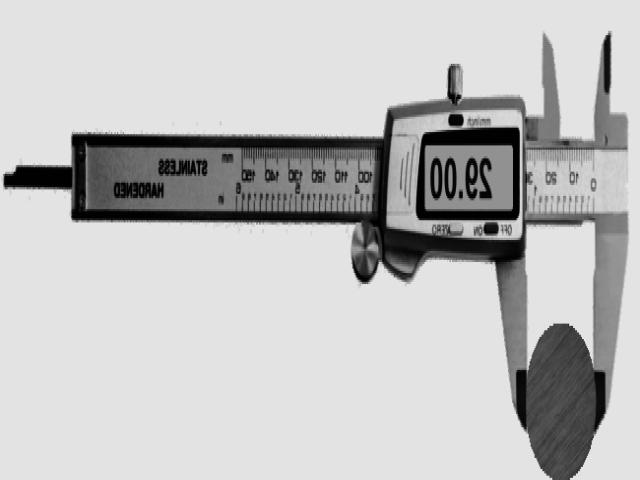Calipers: (5, 36, 628, 440)
